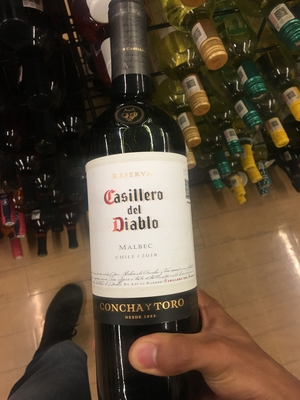casillero del diablo malbec: (74, 2, 216, 400)
